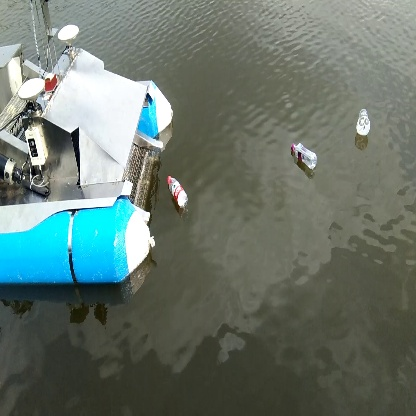bottle: (287, 141, 318, 172), (163, 173, 189, 208), (355, 107, 373, 142)
